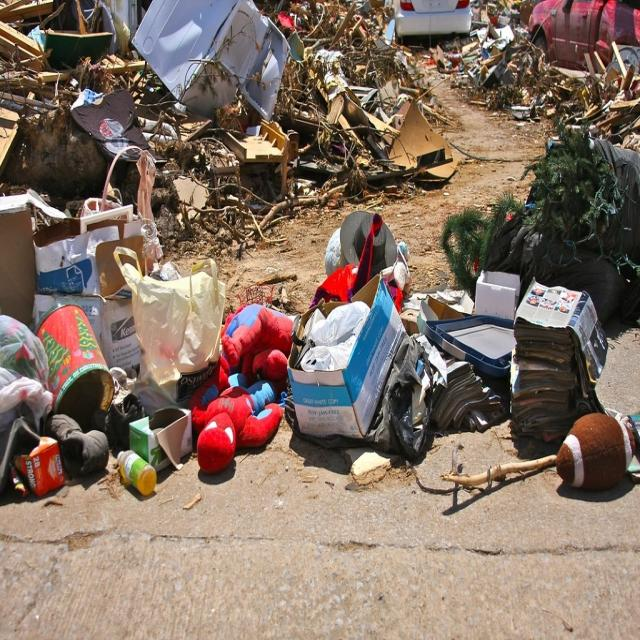Plastics: (12, 280, 165, 511), (148, 0, 299, 119)
